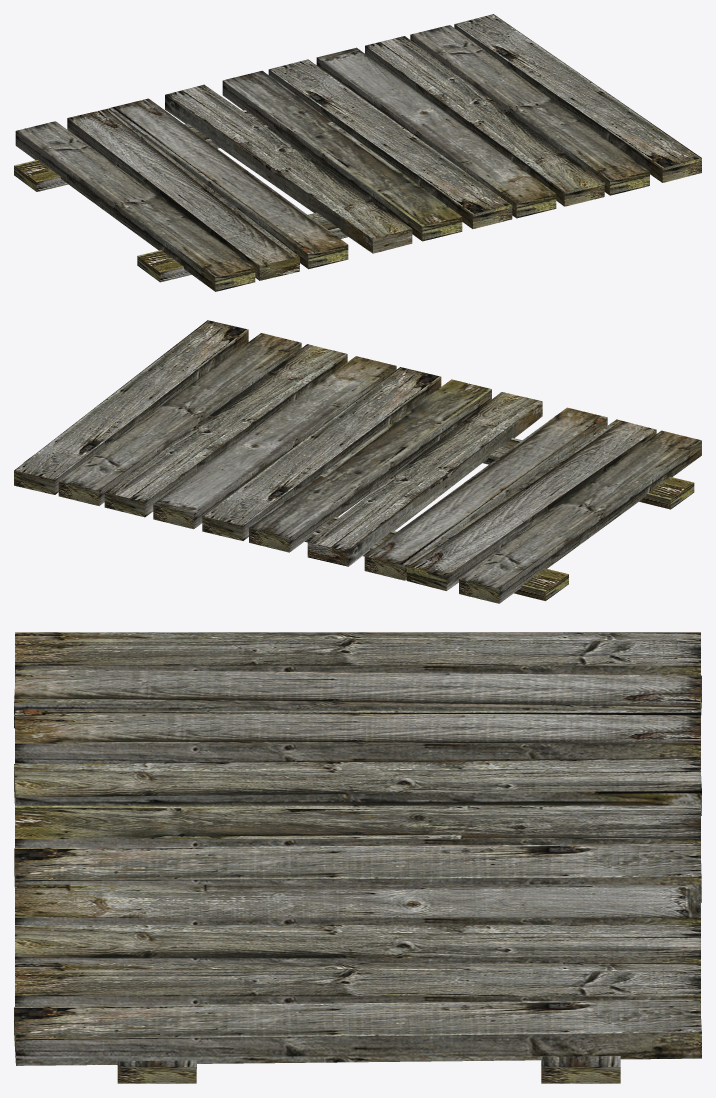
File: bridge.fbx
3 renders of one model, top to bottom at view 1: azimuth 30°, elevation 25°; view 2: azimuth 150°, elevation 25°; view 3: azimuth 270°, elevation 25°, orthographic. The views are drawn at different scales.
Visible parts, largest first — view 1: pCube9, pCube12, pCube8, pCube15, pCube1, pCube13, pCube11, pCube14, pCube16, pCube10, pCube18, pCube17; view 2: pCube12, pCube9, pCube8, pCube11, pCube13, pCube1, pCube15, pCube14, pCube16, pCube10, pCube18, pCube17; view 3: pCube15, pCube10, pCube9, pCube8, pCube14, pCube12, pCube16, pCube1, pCube11, pCube13, pCube17, pCube18.
Part boxes in pixels (bbox=[...]): pCube9: bbox=[165, 84, 412, 253]; pCube12: bbox=[15, 121, 255, 291]; pCube8: bbox=[222, 70, 462, 241]; pCube15: bbox=[454, 14, 701, 182]; pCube1: bbox=[268, 59, 512, 228]; pCube13: bbox=[365, 36, 604, 206]; pCube11: bbox=[67, 108, 299, 280]; pCube14: bbox=[316, 47, 556, 218]; pCube16: bbox=[410, 25, 649, 195]; pCube10: bbox=[108, 98, 348, 269]; pCube18: bbox=[137, 212, 348, 282]; pCube17: bbox=[14, 110, 270, 191]; pCube12: bbox=[459, 430, 701, 603]; pCube9: bbox=[307, 392, 542, 566]; pCube8: bbox=[249, 379, 491, 552]; pCube11: bbox=[406, 419, 656, 590]; pCube13: bbox=[104, 344, 347, 517]; pCube1: bbox=[202, 367, 441, 540]; pCube15: bbox=[14, 320, 248, 494]; pCube14: bbox=[153, 356, 396, 529]; pCube16: bbox=[58, 333, 301, 505]; pCube10: bbox=[364, 407, 607, 580]; pCube18: bbox=[483, 438, 694, 509]; pCube17: bbox=[23, 457, 568, 600]; pCube15: bbox=[14, 999, 701, 1065]; pCube10: bbox=[15, 710, 700, 768]; pCube9: bbox=[14, 757, 701, 815]; pCube8: bbox=[15, 805, 700, 852]; pCube14: bbox=[15, 884, 700, 924]; pCube12: bbox=[15, 632, 700, 681]; pCube16: bbox=[15, 963, 700, 1012]; pCube1: bbox=[14, 844, 701, 902]; pCube11: bbox=[14, 669, 701, 728]; pCube13: bbox=[15, 925, 700, 962]; pCube17: bbox=[541, 1056, 620, 1083]; pCube18: bbox=[117, 1060, 196, 1083].
Size of the model in its own units: 14.03 by 0.5859 by 9.43.
Materials: 1 (1 with a texture image).
